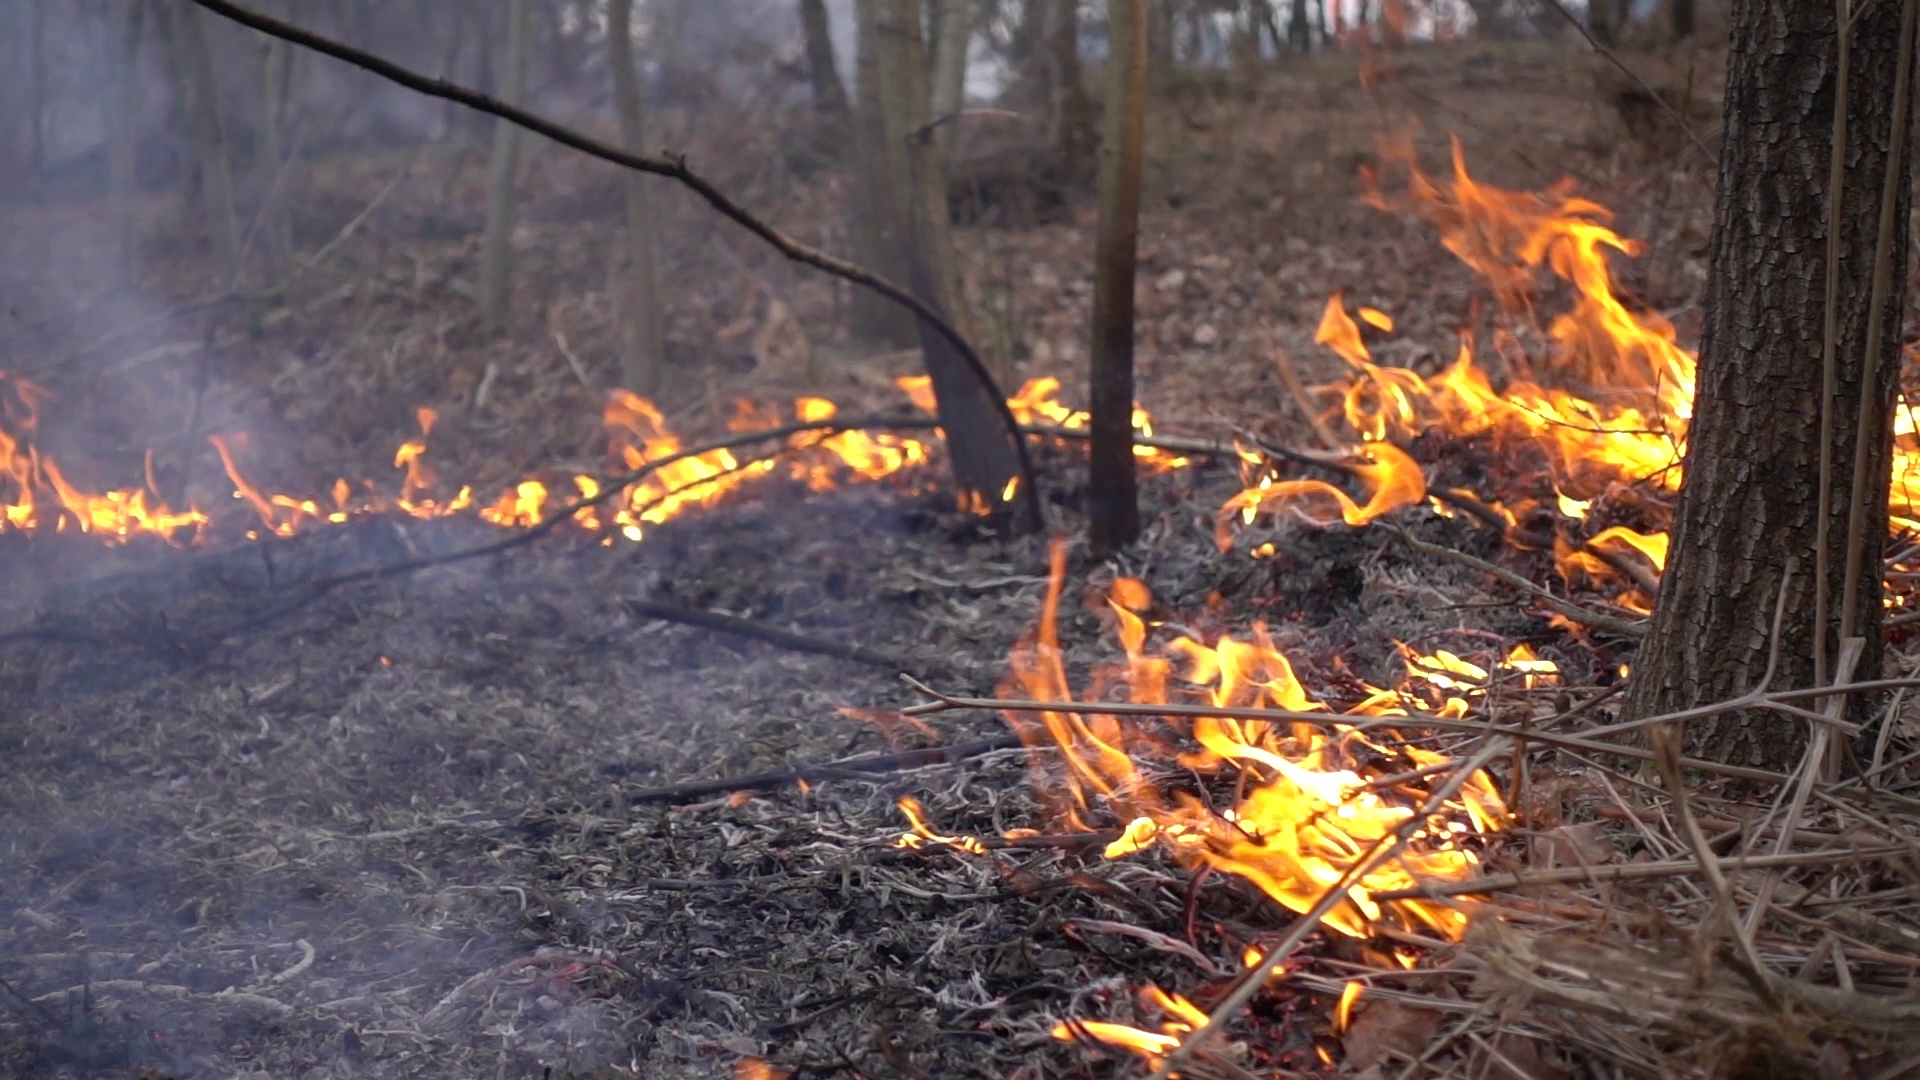fire: (1004, 582, 1505, 945), (1229, 167, 1697, 531), (229, 444, 541, 527), (605, 397, 737, 518), (5, 448, 175, 535), (800, 402, 913, 473), (1894, 406, 1920, 526)
